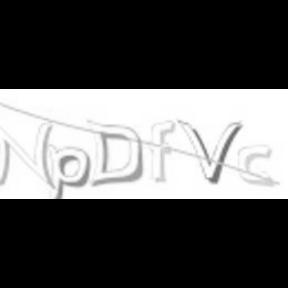D: (85, 115, 143, 188)
N: (0, 123, 54, 193)
V: (176, 118, 242, 184)
c: (236, 143, 278, 189)
f: (146, 119, 176, 183)
p: (46, 141, 90, 199)
